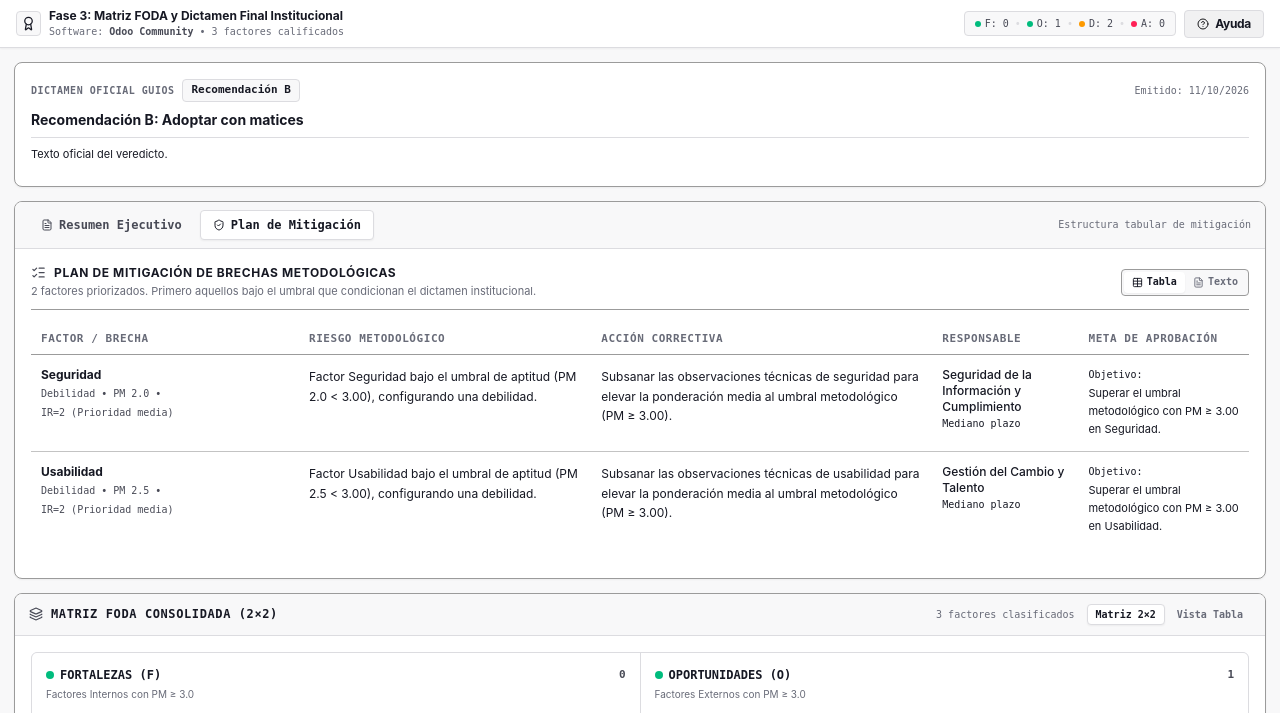
Test: Step3VerdictSWOT › muestra el dictamen oficial persistido y permite cambiar a Resumen Ejecutivo
Expected: the heading "Recomendación B: Adoptar con matices" is shown, [31,110,304,128]
Step 1. Click the button "Resumen Ejecutivo" → (111, 225), box [29,211,194,239]
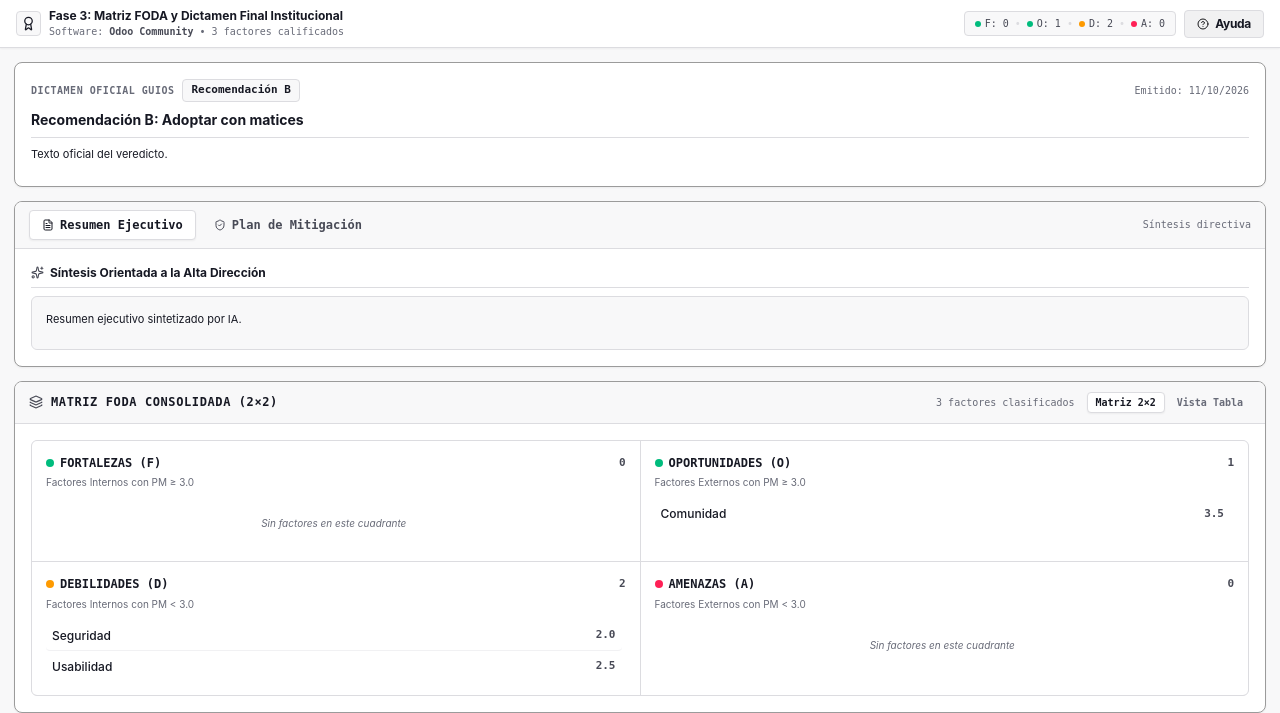
Now the text "Resumen ejecutivo sintetizado por IA." is shown, box [46,312,242,326]
